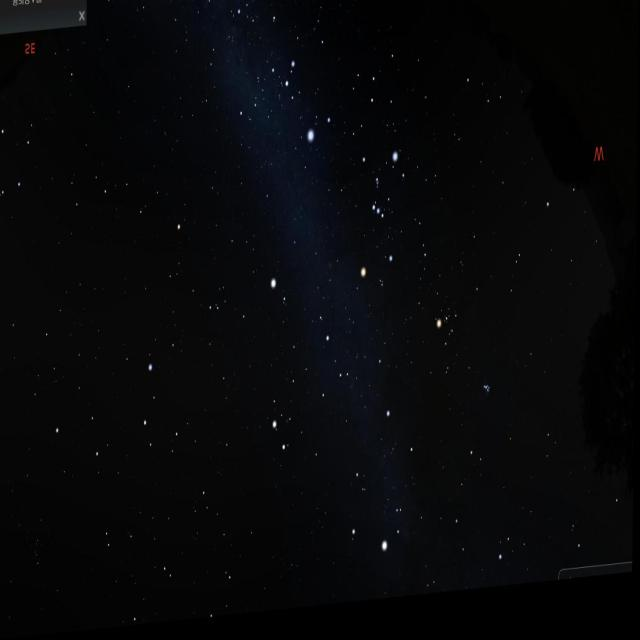canis_major: (286, 64, 337, 162)
canis_minor: (262, 258, 296, 337)
gemini: (262, 309, 365, 476)
leo: (52, 347, 191, 496)
orion: (355, 152, 406, 292)
pleiades: (482, 384, 496, 411)
taurus: (418, 292, 506, 442)
